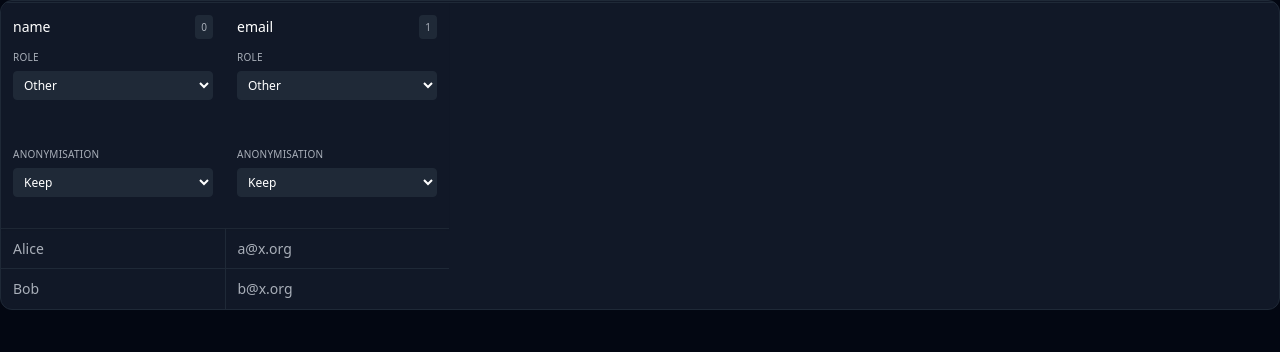
Test: PolicyGrid live preview › keeps the other columns transformed when Encrypt is picked without a key
The width and height of the screenshot is (1280, 352).
Select "Mask" in the dropdown named "Policy for \"name\"" at (113, 182), box [13,168,213,197]
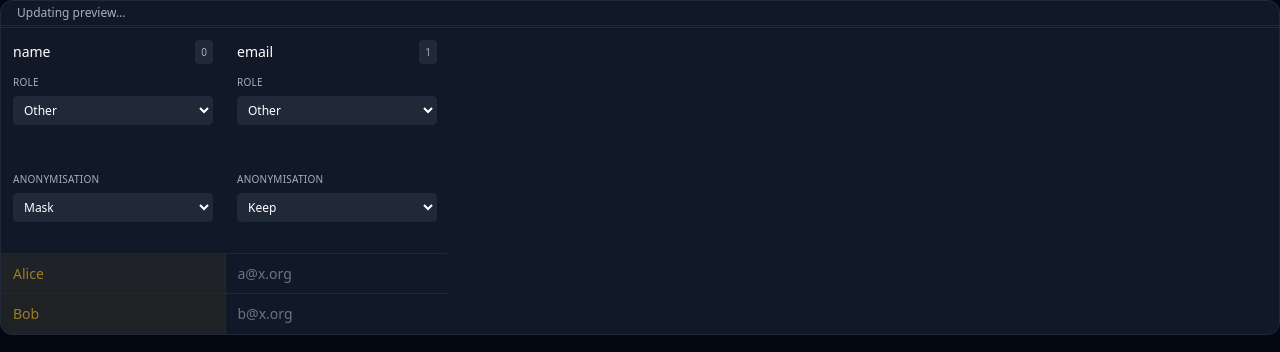
Select "Encrypt" in the dropdown named "Policy for \"email\"" at (337, 208), box [237,193,437,222]
Wait 300 ms
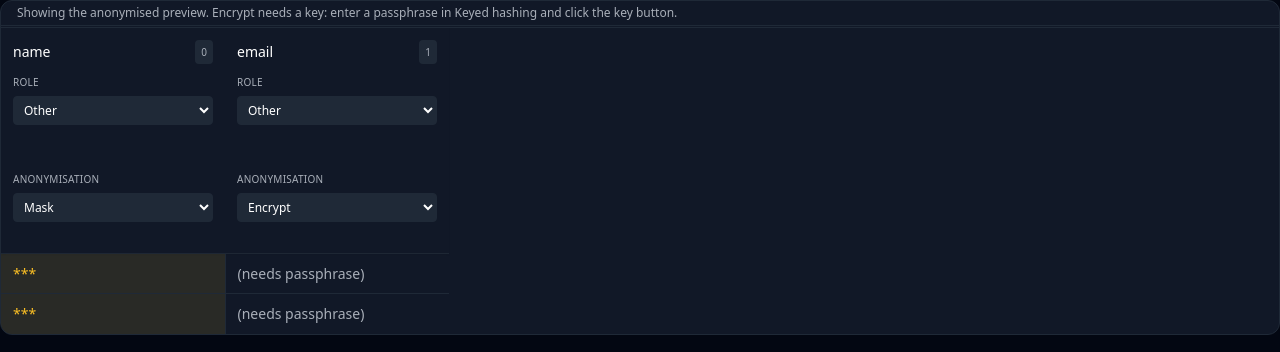
Now the text "Alice" is gone
Now the text "a@x.org" is gone
Now the message with test id "grid-preview-status" shows "Keyed hashing", box [17,4,677,21]
